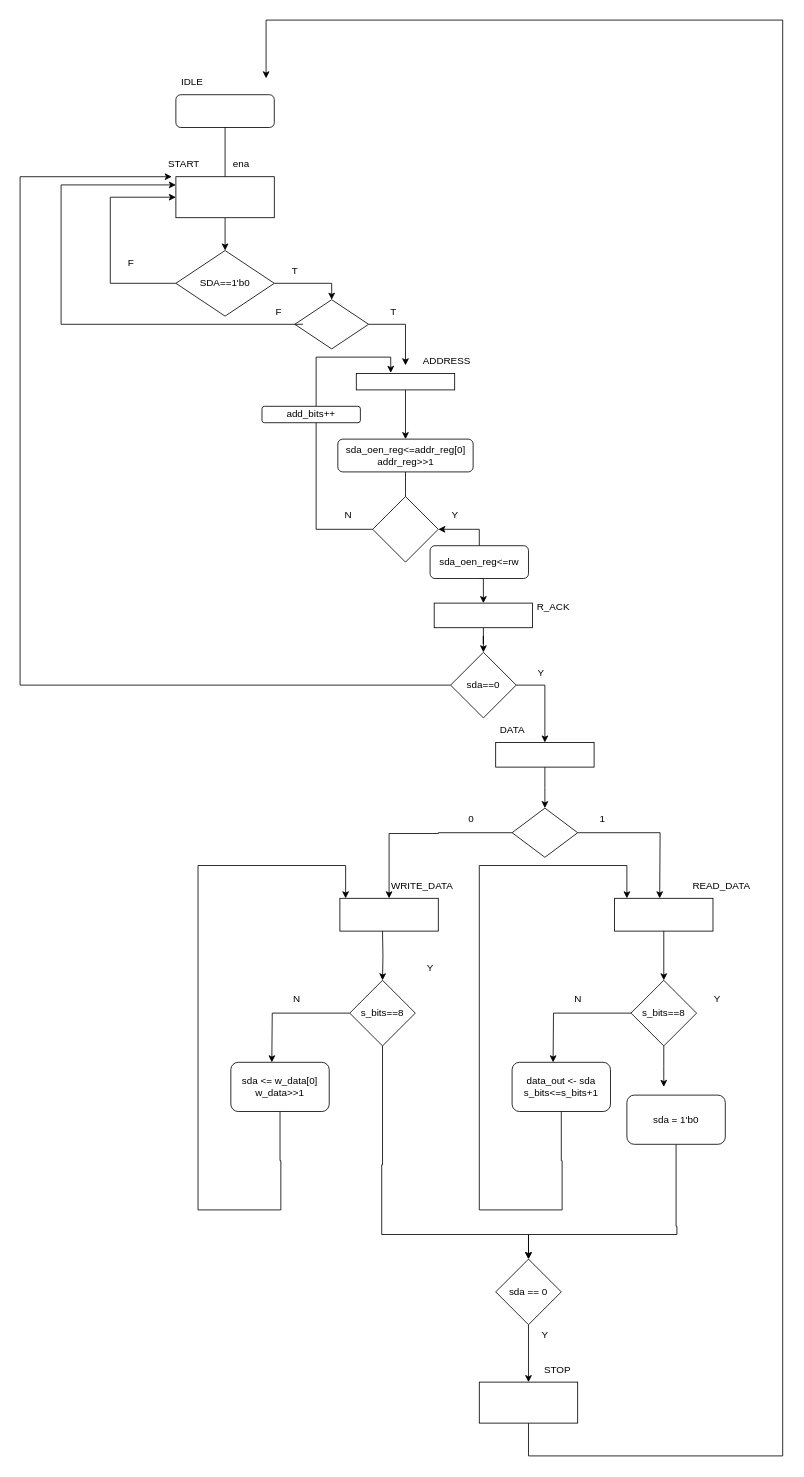
This 804x1477 diagram has some shape labels left out. Here are the shapes that lost their labels. From the top down, the centre of each, then its label:
At pixel 224 111: "sda = 1'b1 scl = 1'b1".
At pixel 331 324: "SCL==1'b0".
At pixel 405 529: "add_bits==8".
At pixel 544 832: "rw".
At pixel 528 1402: "scl = 1'b1".
